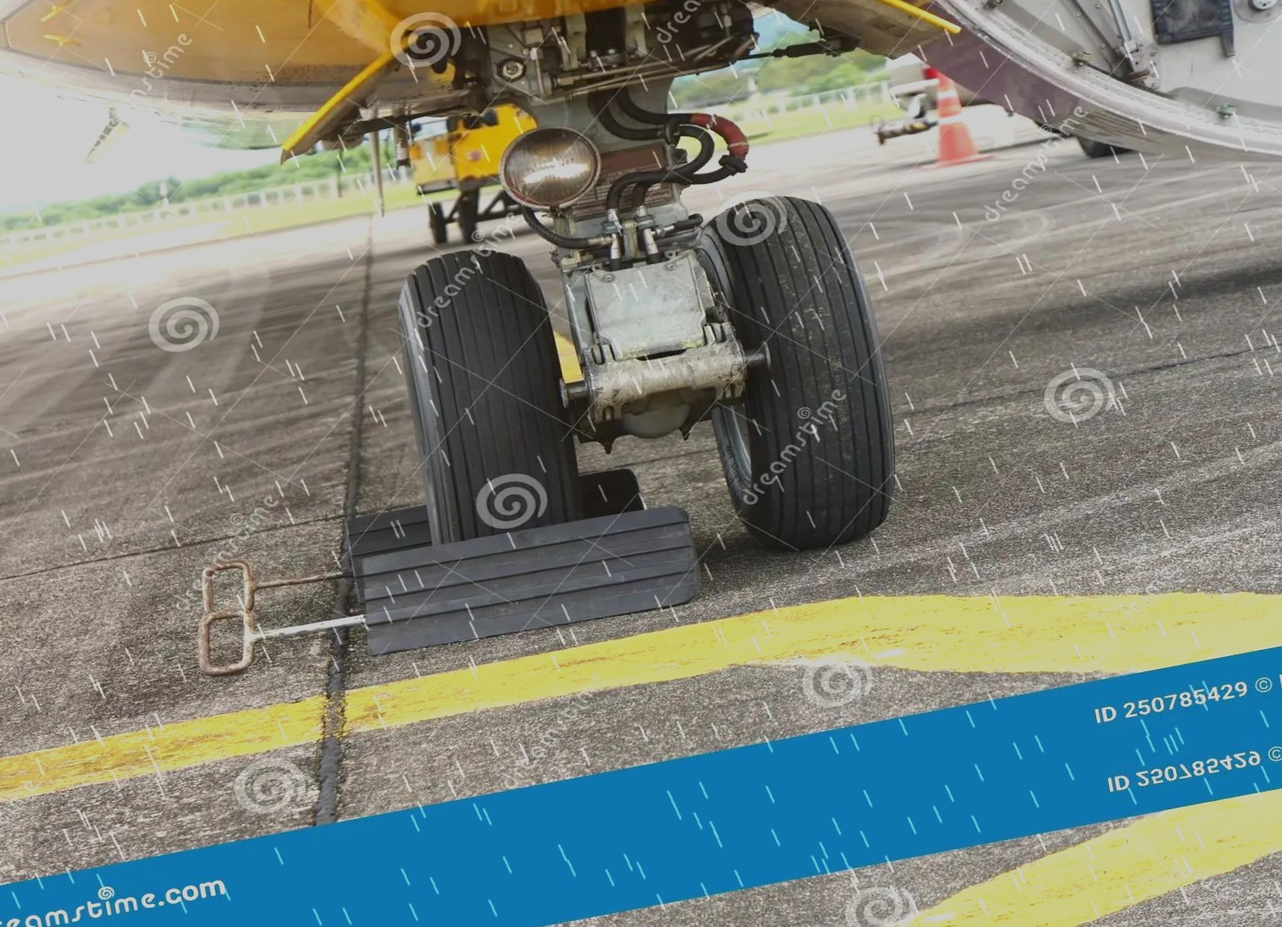chock: (349, 498, 711, 659), (330, 459, 650, 567)
wheel: (669, 185, 908, 557), (384, 234, 593, 544)
